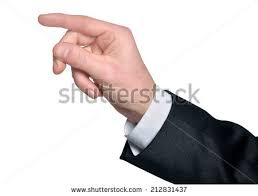hand: (26, 8, 167, 129)
